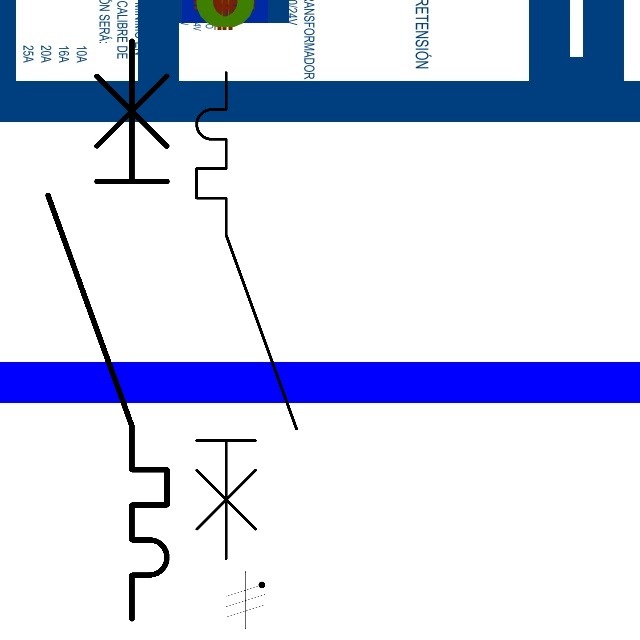interruptor_termomagnetico: (33, 26, 182, 634), (184, 60, 309, 571)
